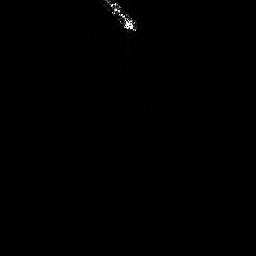ship: (98, 1, 140, 34)
